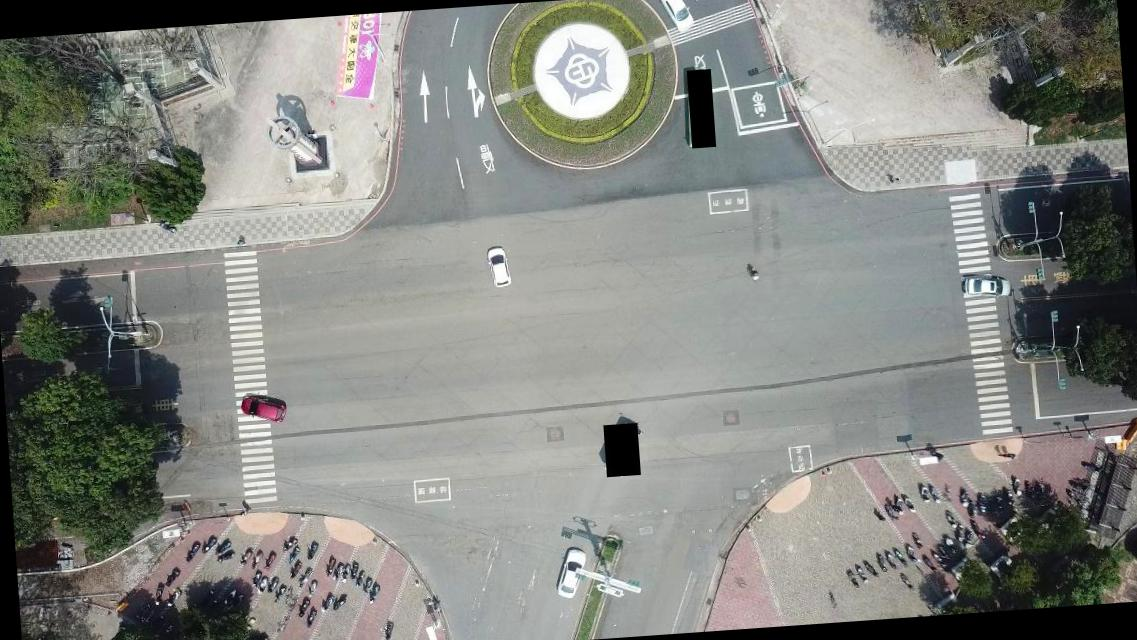vehicle: (553, 546, 588, 600), (239, 394, 286, 423), (962, 273, 1011, 298), (659, 0, 695, 34), (486, 246, 512, 286)
